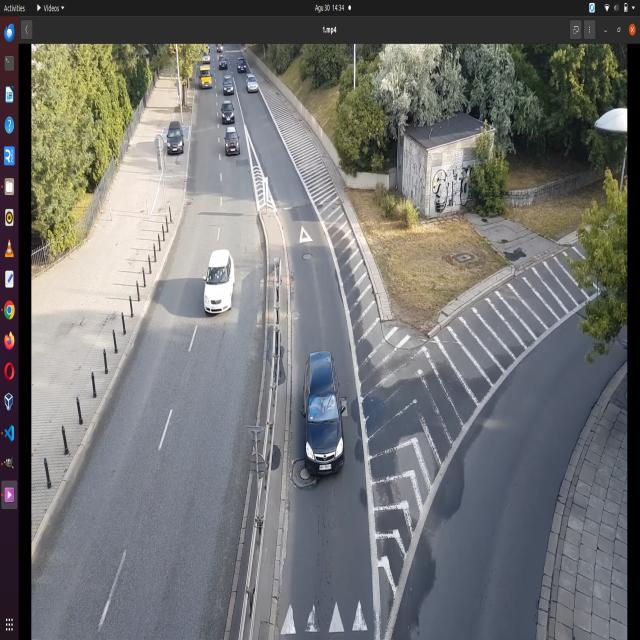person_with_seatbelt: (323, 394, 337, 412), (218, 265, 226, 281)
